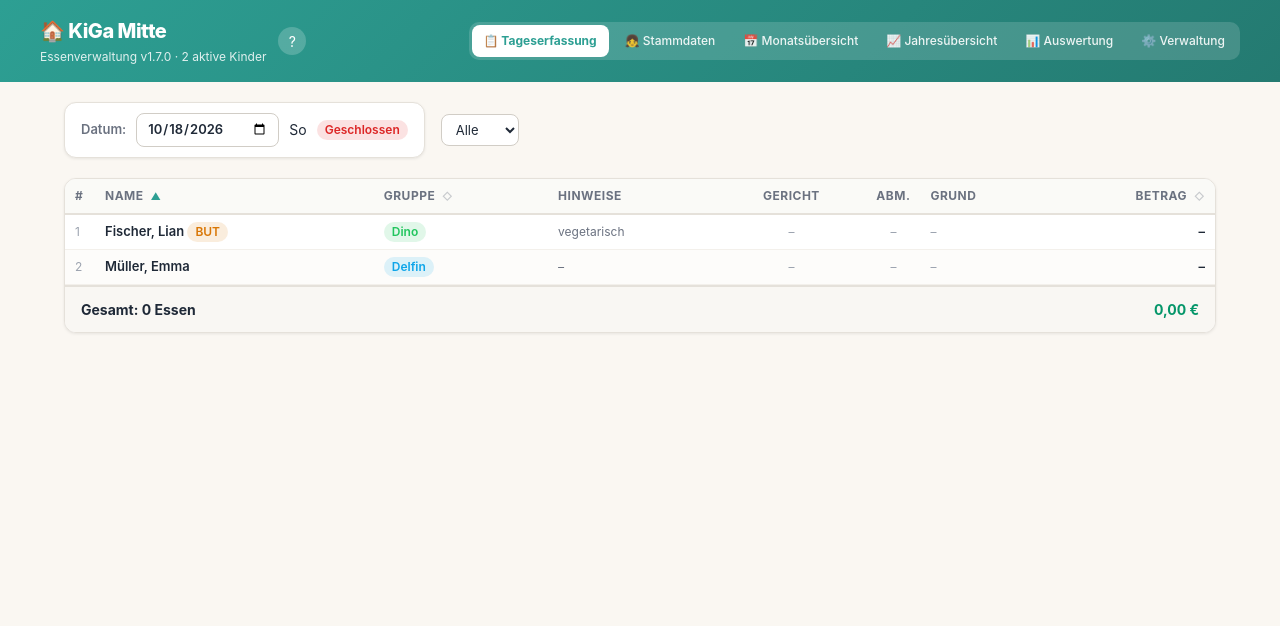
Test: App › switches tabs correctly
The image size is (1280, 626).
expect the text "Müller, Emma" is shown: met, box [95,249,374,284]
Note: Switch to Stammdaten
Click the button "👧 Stammdaten" at x=670, y=41, box [613,25,727,57]
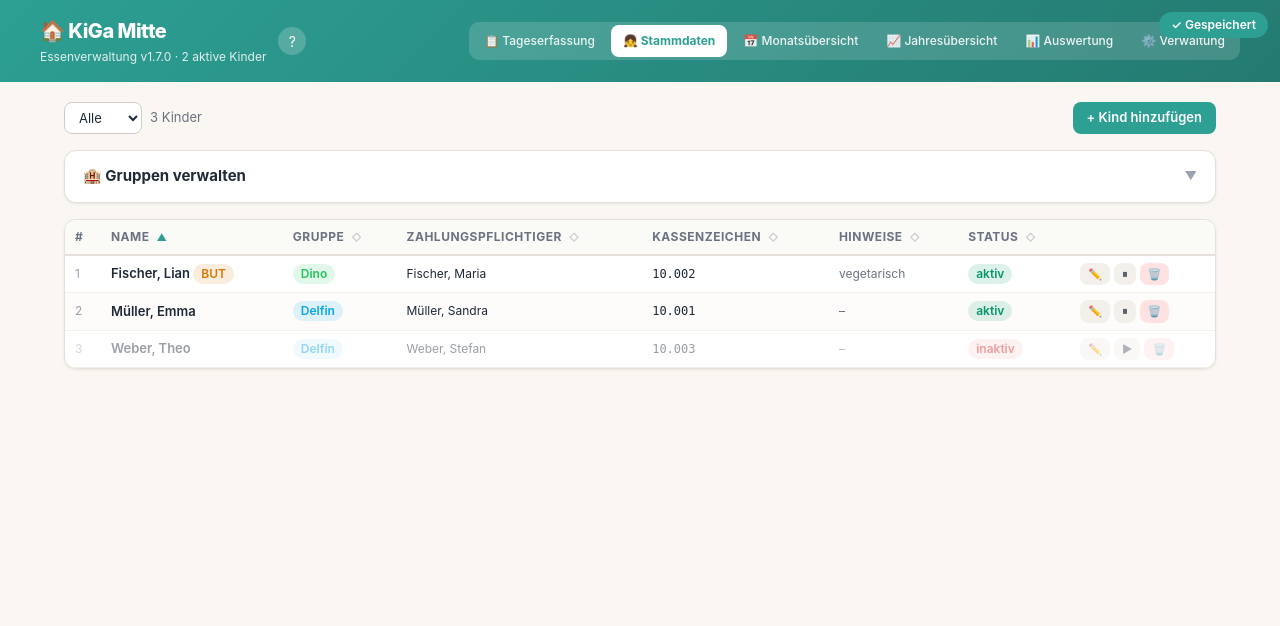
expect the button "+ Kind hinzufügen" is shown: met, box [1072,102,1216,134]
Note: Switch to Monatsübersicht
Click the button "📅 Monatsübersicht" at x=801, y=41, box [731,25,870,57]
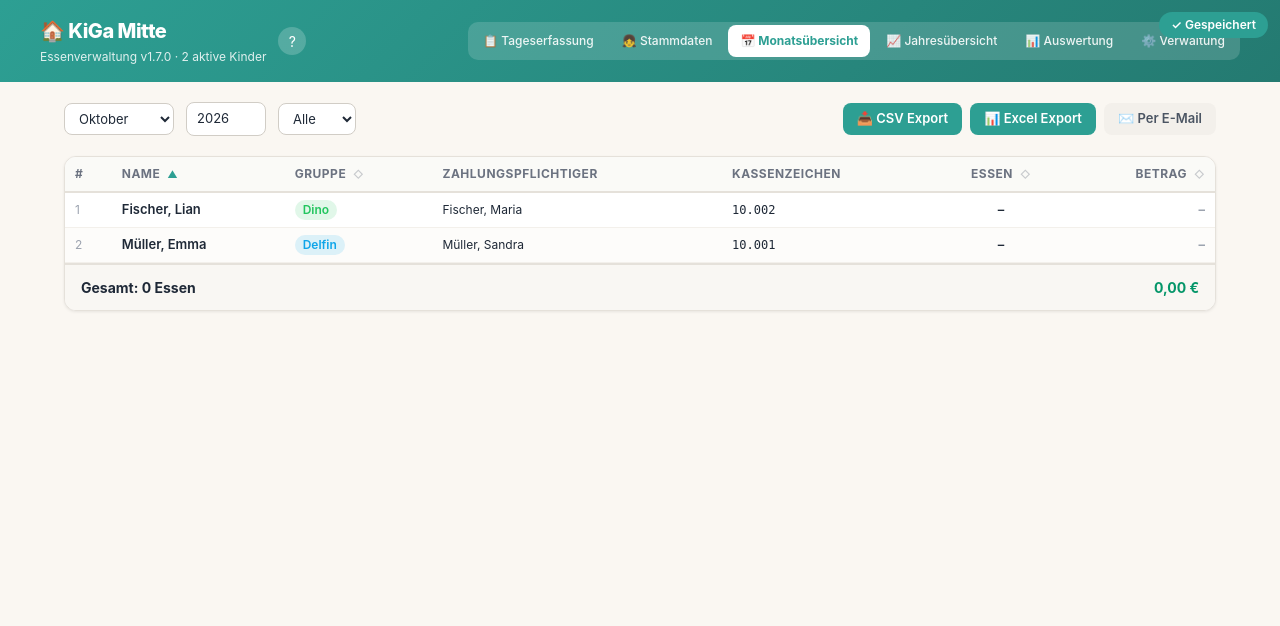
expect the button "📥 CSV Export" is shown: met, box [843,103,962,134]
Note: Switch to Analytics
Click the button "📊 Auswertung" at x=1069, y=41, box [1013,25,1125,57]
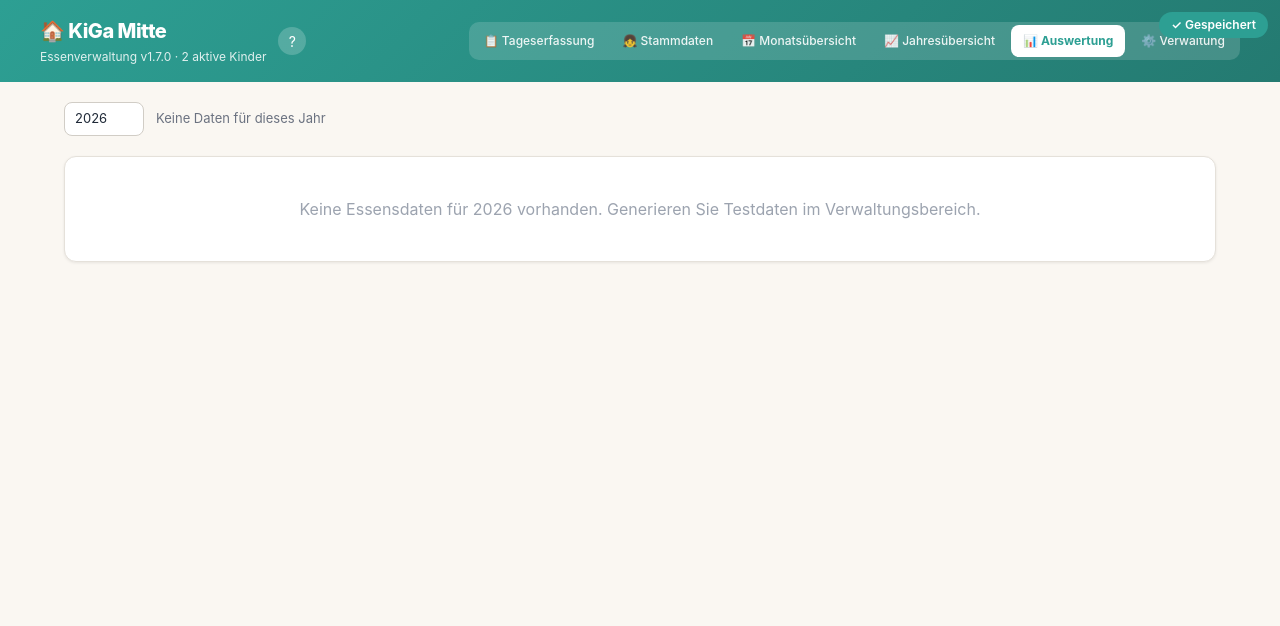
expect the text "Keine Essensdaten" is shown: met, box [300,198,473,218]
Note: Switch to Verwaltung (use tab button specifically)
Click the button titled "Import, Export" at x=1183, y=41, box [1129,25,1237,57]
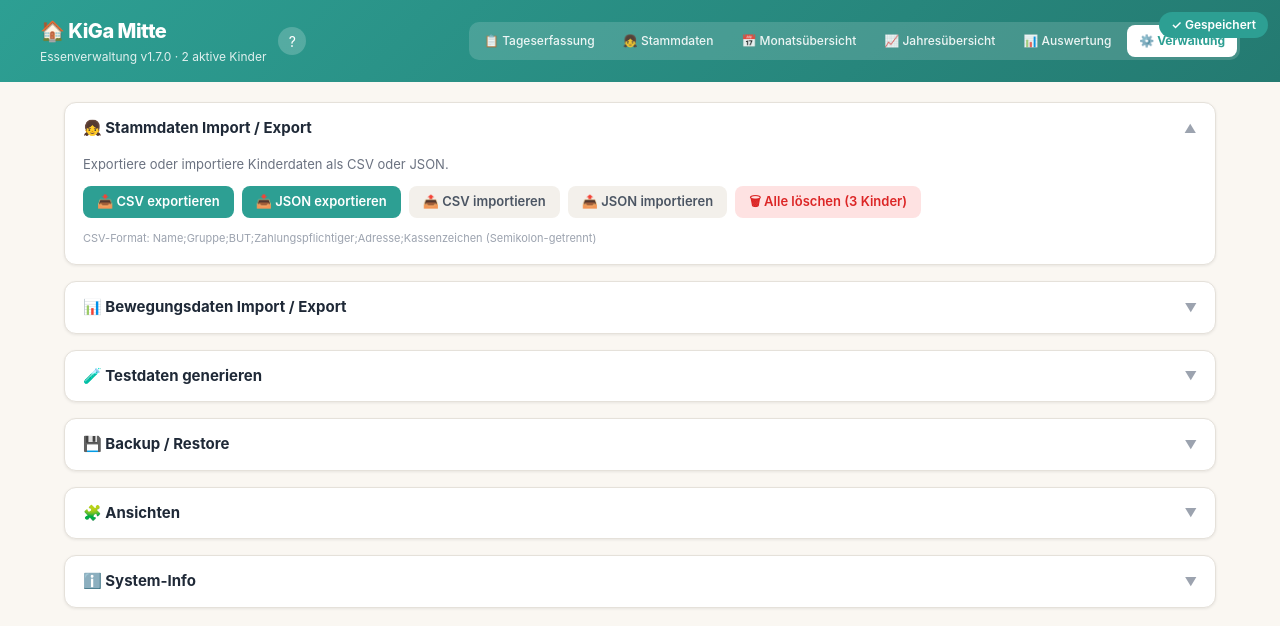
expect the text "💾 Backup / Restore" is shown: met, box [83,433,229,456]
